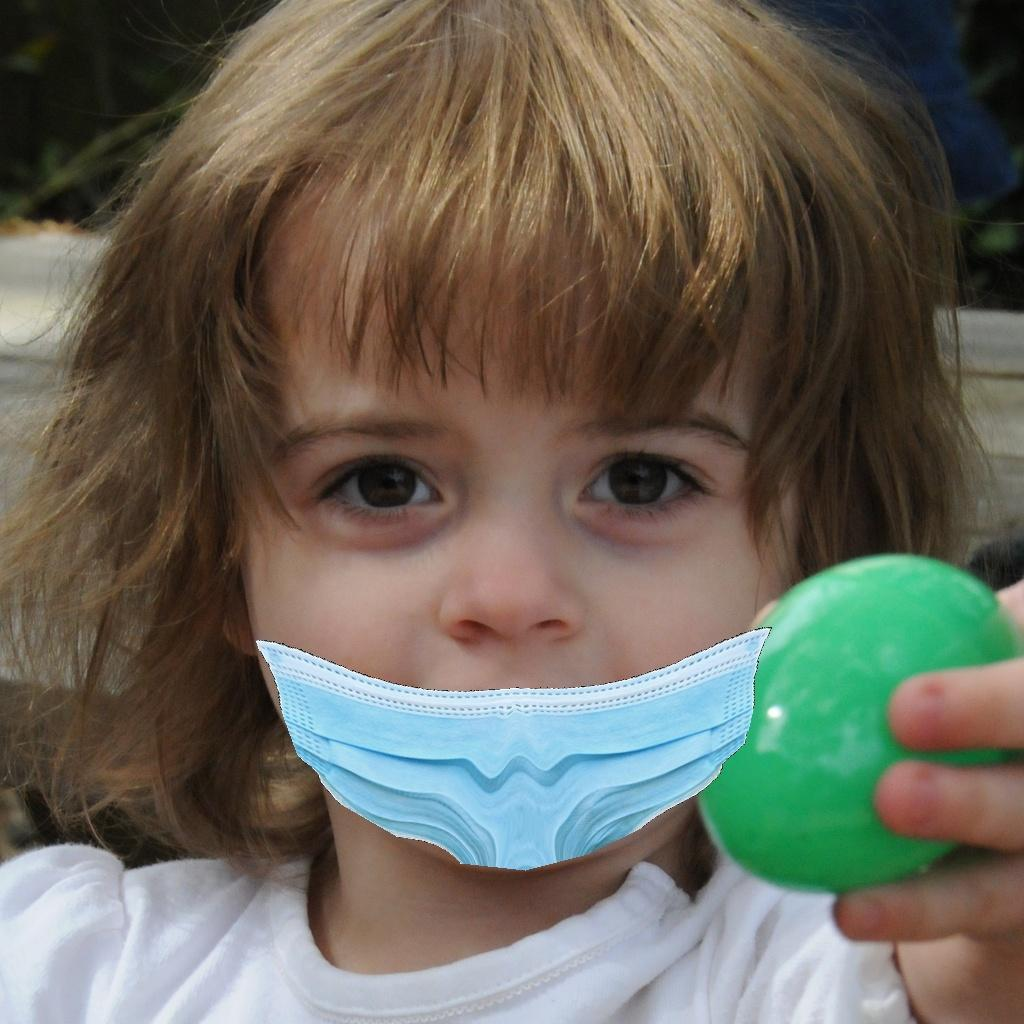Máscara Incorreta: (210, 278, 800, 878)
